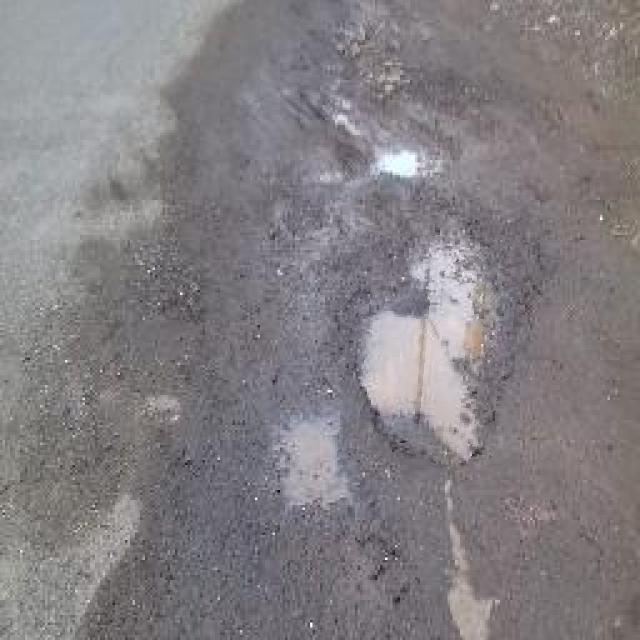puddle: (342, 234, 524, 470)
